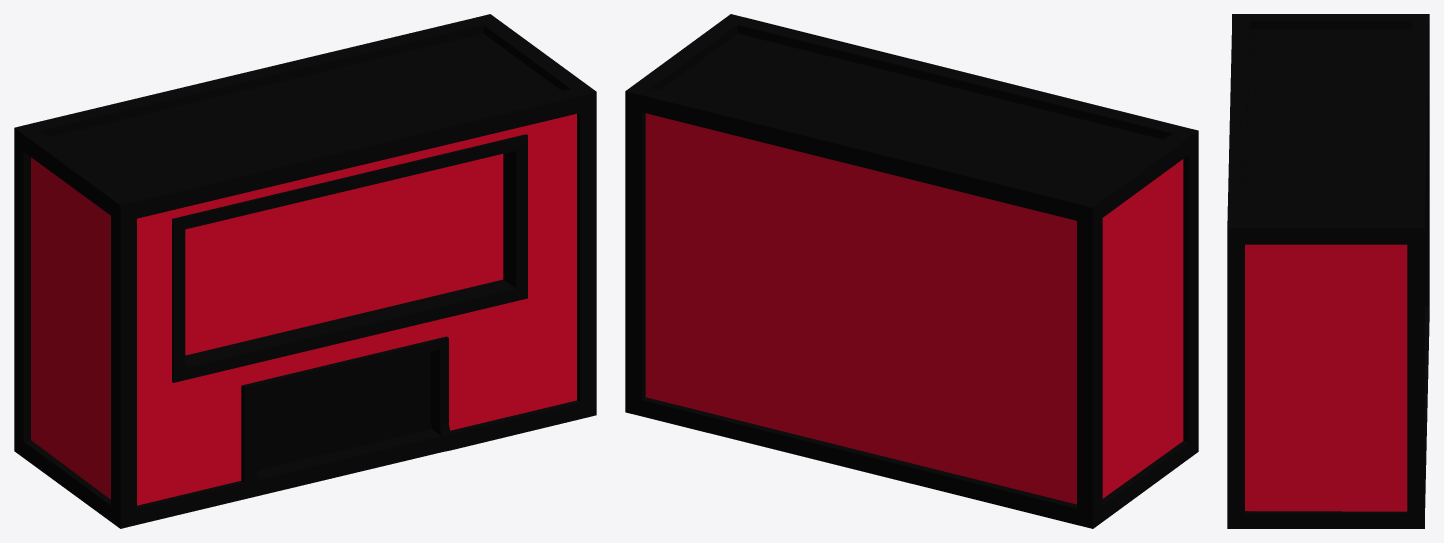
The picture shows the model from 3 angles, left to right: view 1: azimuth 30°, elevation 25°; view 2: azimuth 150°, elevation 25°; view 3: azimuth 270°, elevation 25°; orthographic projection. The views are drawn at different scales.
Visible parts, largest first — view 1: Building3; view 2: Building3; view 3: Building3.
Part boxes in pixels (box(x1,y1,x2,y2)): Building3: box(14, 14, 596, 528); Building3: box(625, 14, 1198, 528); Building3: box(1227, 14, 1429, 528).
Bounding box in the file's own units: 5770 × 3765 × 2295.
